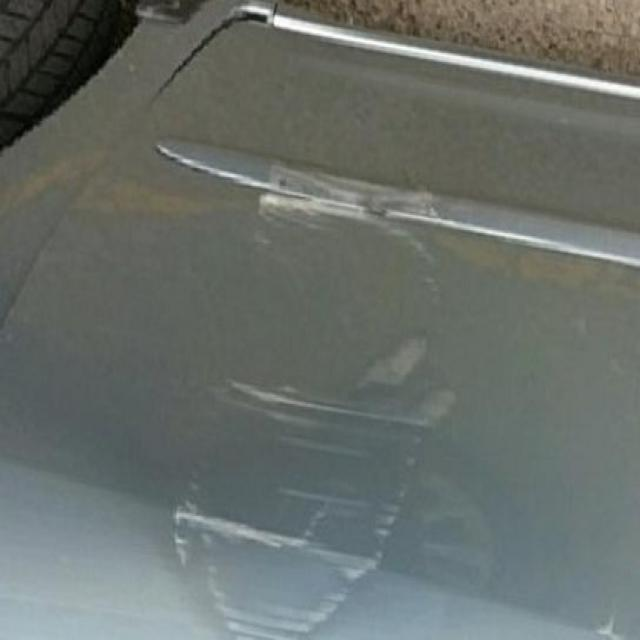scratch: (150, 159, 470, 640)
